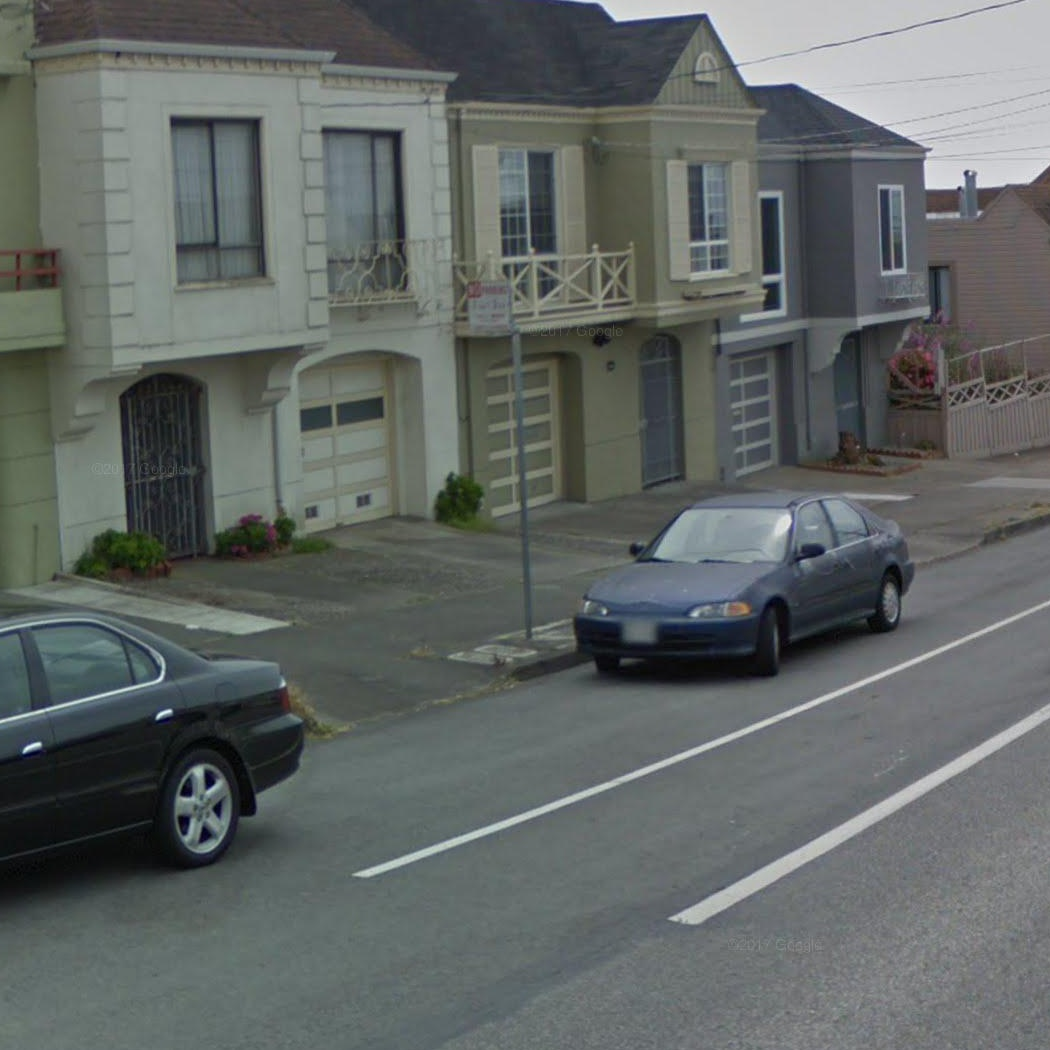No Parking: (466, 279, 515, 333)
